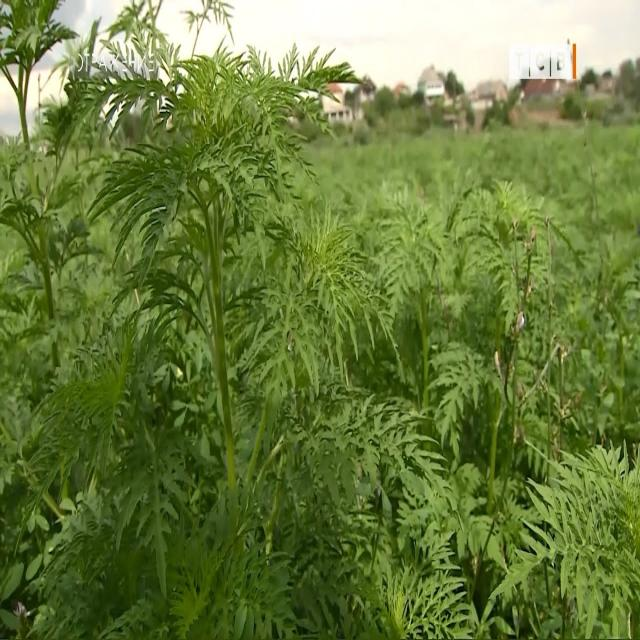ambrosia: (74, 22, 362, 494), (388, 133, 638, 632), (0, 0, 112, 551)
